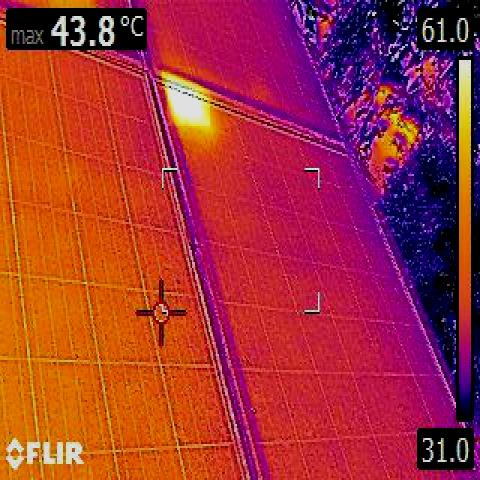fault: (167, 89, 210, 126)
